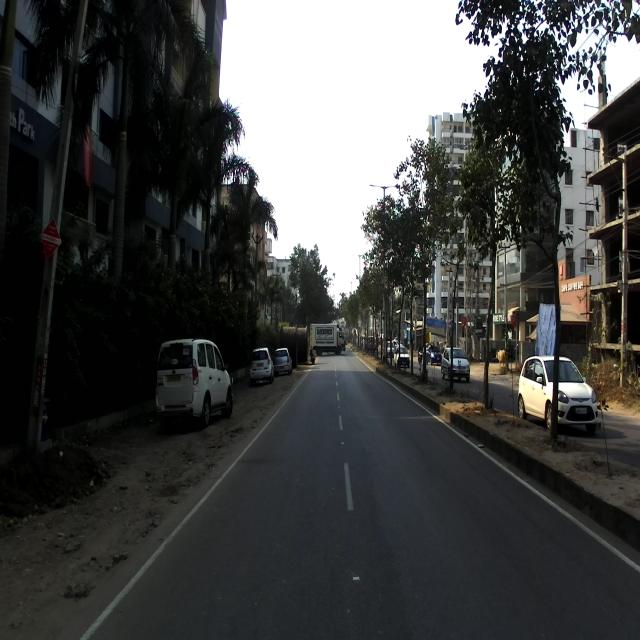car ahead at: (156, 331, 231, 434)
